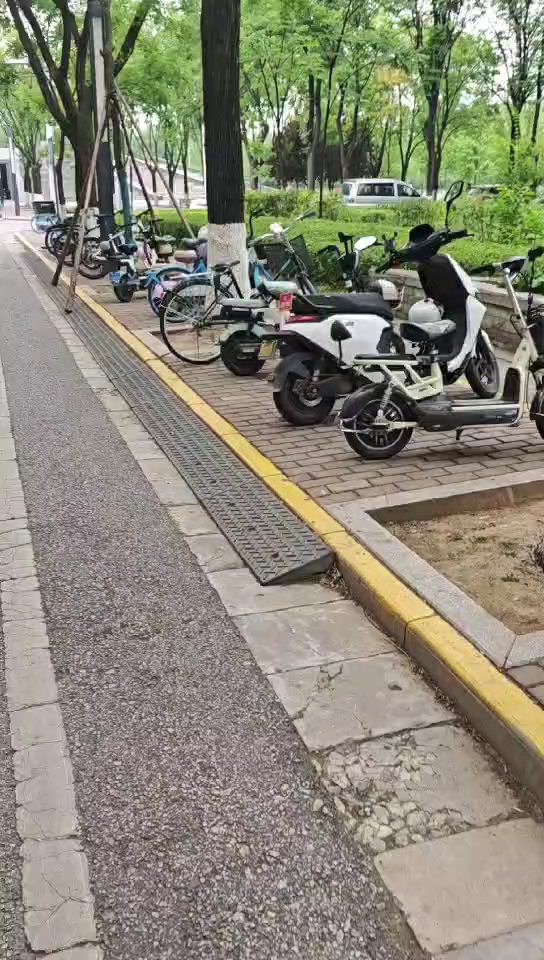others: (284, 206, 509, 405), (334, 274, 543, 438), (168, 252, 333, 375)
shared_bike_haluo: (143, 219, 277, 318)
